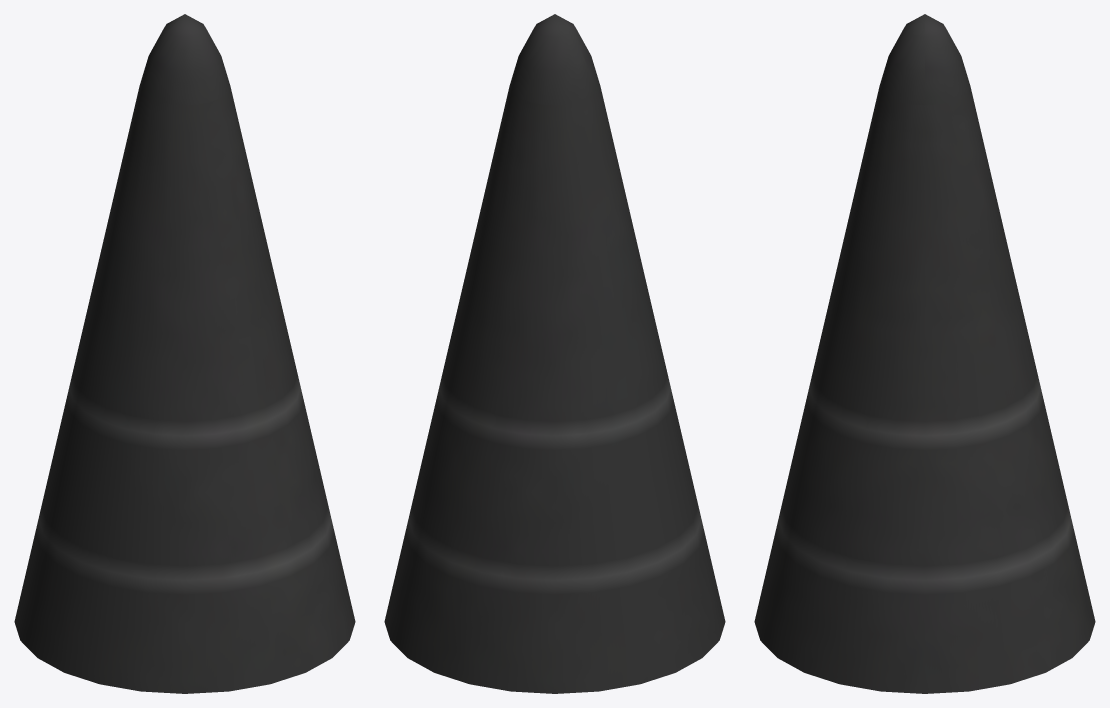
The model's file is rotanev_nose_cone_s0p5_1.obj.
3 renders of one model, left to right at view 1: azimuth 30°, elevation 25°; view 2: azimuth 150°, elevation 25°; view 3: azimuth 270°, elevation 25°, orthographic.
Parts seen in each view (by area): view 1: 1; view 2: 1; view 3: 1.
Boxes of the visible parts, left/top/right/bottom form: 1: left=14, top=14, right=355, bottom=693; 1: left=384, top=14, right=725, bottom=693; 1: left=754, top=14, right=1095, bottom=693.
Size of the model in its own units: 0.9375 by 1.84 by 0.9375.
